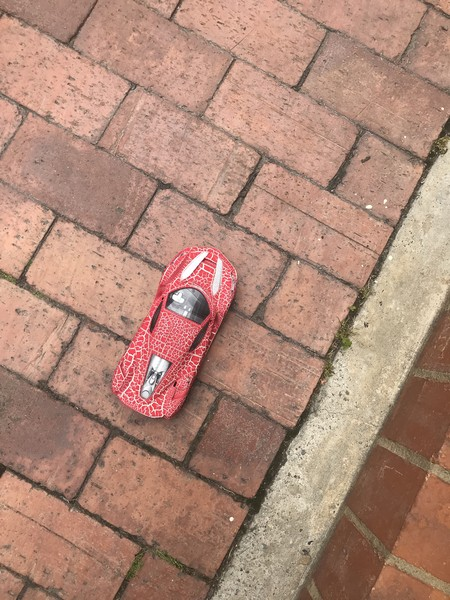RC: (110, 245, 238, 419)
